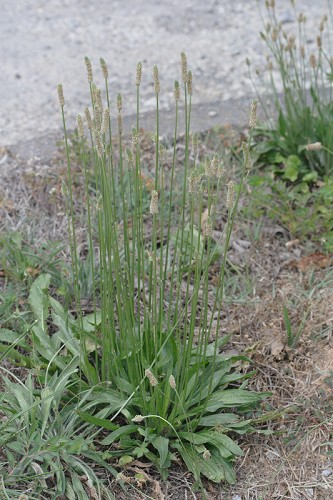buckhorn plantain: (23, 48, 267, 478)
